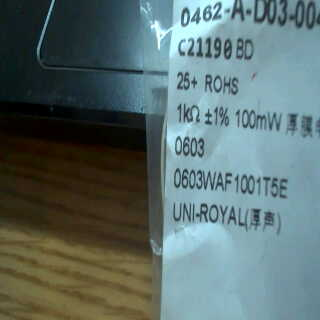1kR: (171, 100, 207, 127)
